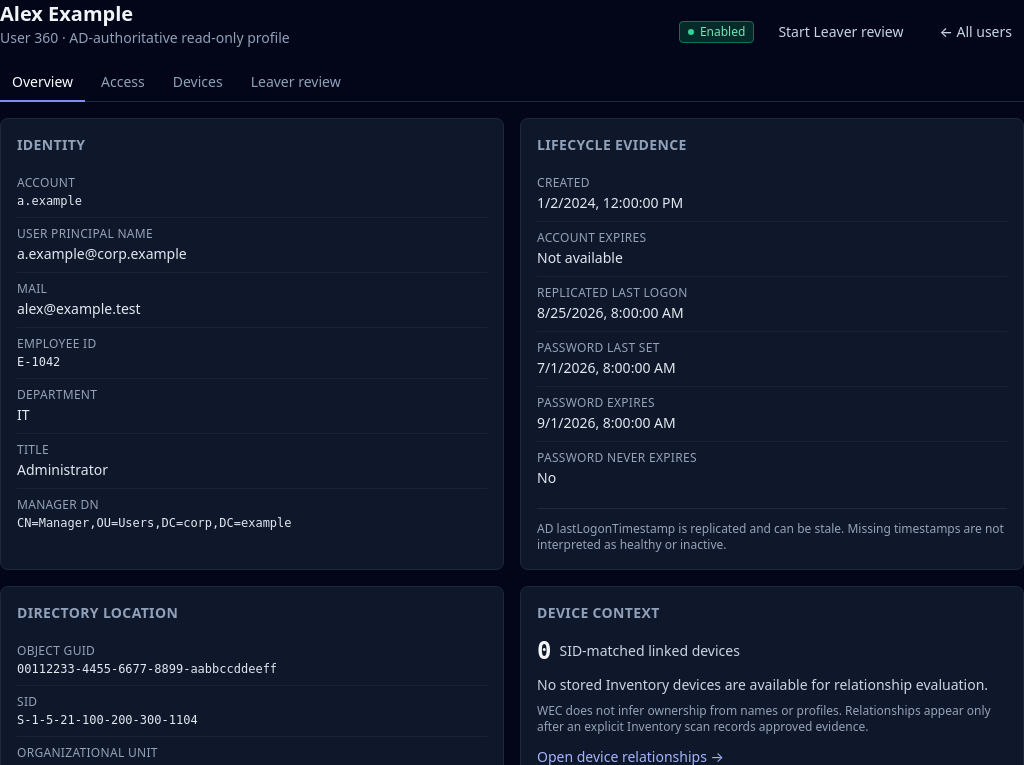
UserDetailPage › makes missing privileged classification coverage explicit instead of claiming no access
The width and height of the screenshot is (1024, 765).
Click the tab "Access" at (123, 83), box [89, 64, 157, 102]
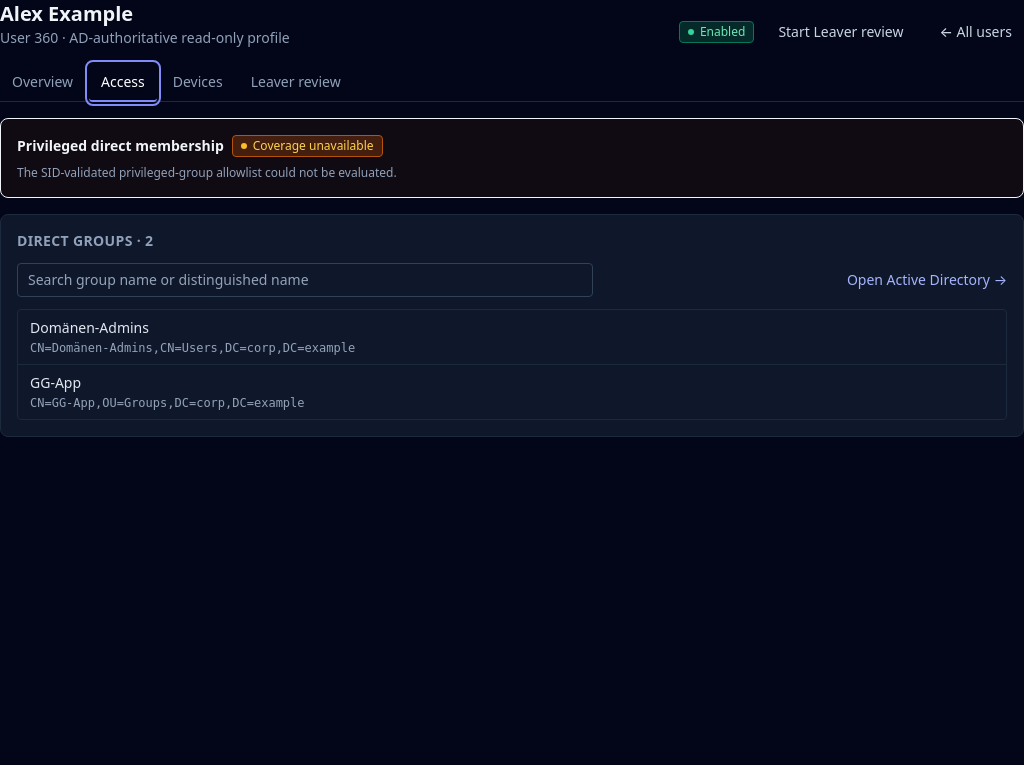
Now the text "Coverage unavailable" is shown, box [232, 135, 383, 157]
